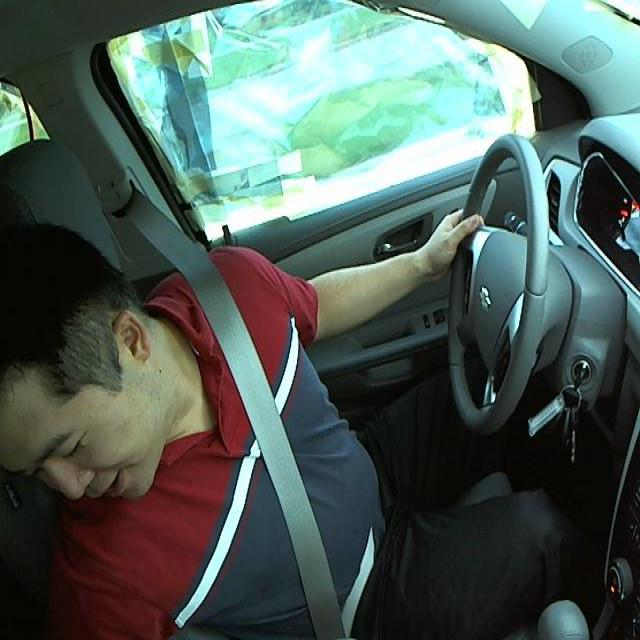seatbelt: (195, 293, 358, 639)
